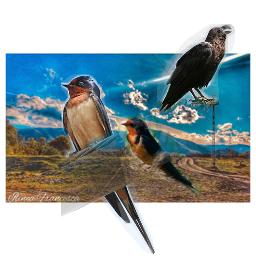Crow: (157, 24, 235, 113)
Swallow: (61, 74, 155, 254), (118, 115, 201, 196)
